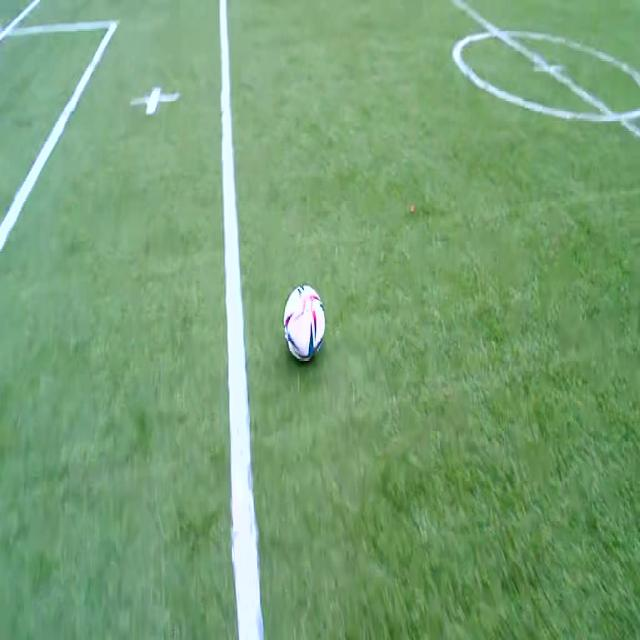ball: (284, 285, 326, 360)
